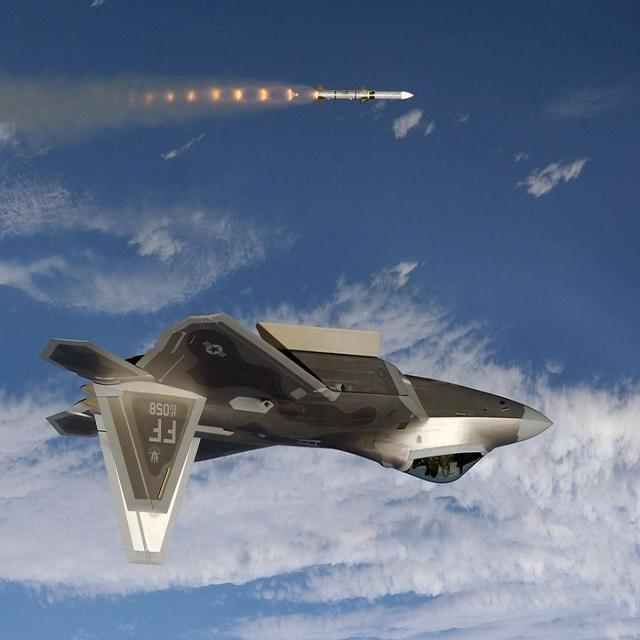missile: (315, 87, 415, 105)
